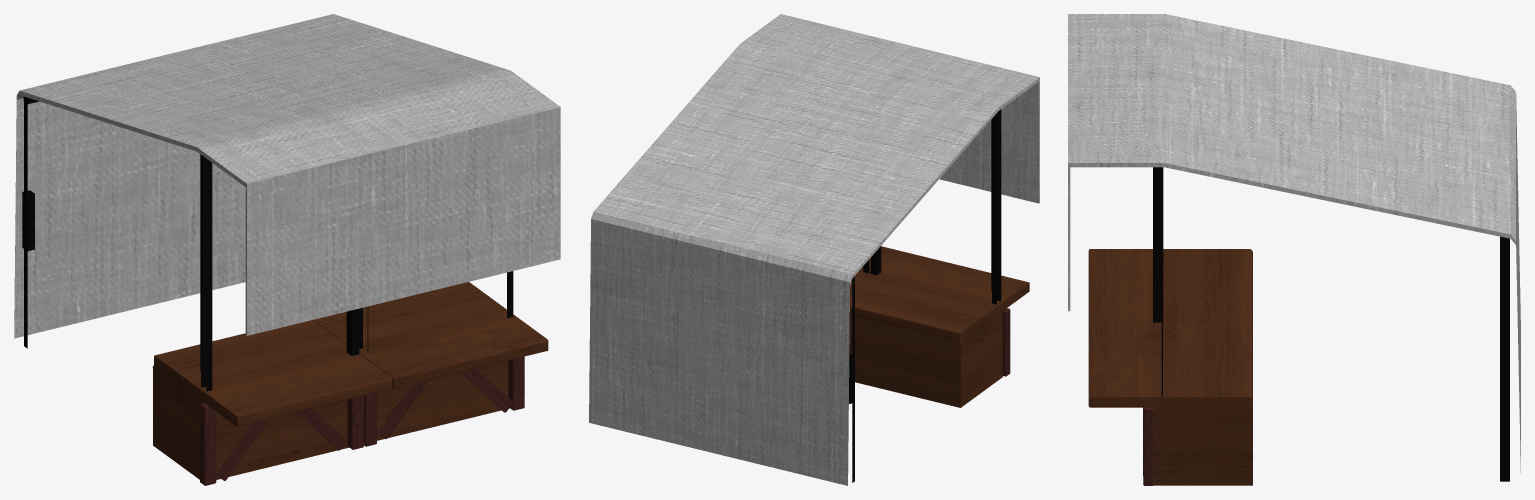
Rendered from Shop.fbx.
3 views of the same model, side by side, from view 1: azimuth 30°, elevation 25°; view 2: azimuth 150°, elevation 25°; view 3: azimuth 270°, elevation 25° (orthographic). The views are drawn at different scales.
Parts seen in each view (by area): view 1: Banner, polySurface5, polySurface11, polySurface12, polySurface17, polySurface14, polySurface16, polySurface10, polySurface9, polySurface8, polySurface15, polySurface7 (+1 smaller); view 2: Banner, polySurface5, polySurface11, polySurface12, polySurface17; view 3: Banner, polySurface5, polySurface2, polySurface1, polySurface10, polySurface4.
Boxes of the visible parts, <box> form: Banner: <box>14,14,560,338</box>; polySurface5: <box>152,282,548,479</box>; polySurface11: <box>200,154,212,391</box>; polySurface12: <box>22,96,34,348</box>; polySurface17: <box>200,403,216,485</box>; polySurface14: <box>347,396,363,449</box>; polySurface16: <box>216,418,269,480</box>; polySurface10: <box>508,356,524,410</box>; polySurface9: <box>460,368,513,412</box>; polySurface8: <box>377,380,428,438</box>; polySurface15: <box>296,408,347,450</box>; polySurface7: <box>364,392,376,446</box>; Banner: <box>589,14,1039,485</box>; polySurface5: <box>849,246,1029,407</box>; polySurface11: <box>991,109,1001,304</box>; polySurface12: <box>849,276,854,482</box>; polySurface17: <box>1002,308,1010,376</box>; Banner: <box>1068,14,1520,472</box>; polySurface5: <box>1088,249,1252,485</box>; polySurface2: <box>1500,236,1509,481</box>; polySurface1: <box>1153,167,1163,396</box>; polySurface10: <box>1143,407,1153,485</box>; polySurface4: <box>1153,185,1163,326</box>.
Size of the model in its own units: 26.18 by 25.9 by 32.92.
